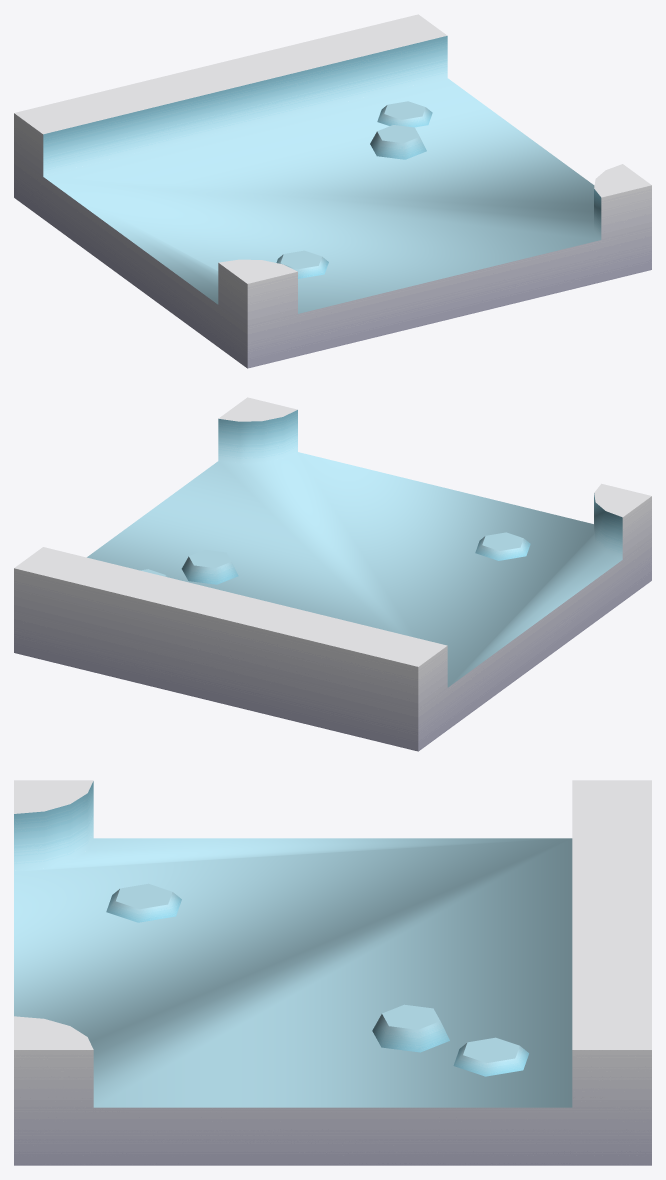
Rendered from tower-defense-kit--snow-tile-split.glb.
3 renders of one model, top to bottom at view 1: azimuth 30°, elevation 25°; view 2: azimuth 150°, elevation 25°; view 3: azimuth 270°, elevation 25°, orthographic. The views are drawn at different scales.
Visible parts, largest first — view 1: snow-tile-split; view 2: snow-tile-split; view 3: snow-tile-split.
Part boxes in pixels (x1,y1,x2,y2): snow-tile-split: [14, 14, 651, 368]; snow-tile-split: [14, 397, 651, 751]; snow-tile-split: [14, 780, 651, 1165].
Bounding box in the file's own units: 1 × 0.2 × 1.
Materials: 1 (1 with a texture image).
